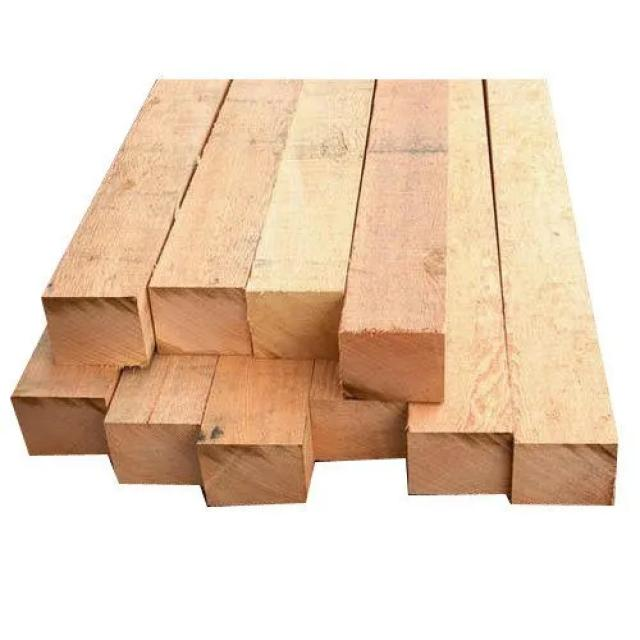perfect-wooden-plate: (486, 80, 618, 504), (42, 80, 227, 366), (409, 81, 512, 494), (149, 80, 302, 354), (246, 80, 374, 358), (340, 81, 448, 402), (198, 358, 312, 504), (105, 355, 218, 484), (11, 332, 120, 454), (310, 360, 408, 461)
